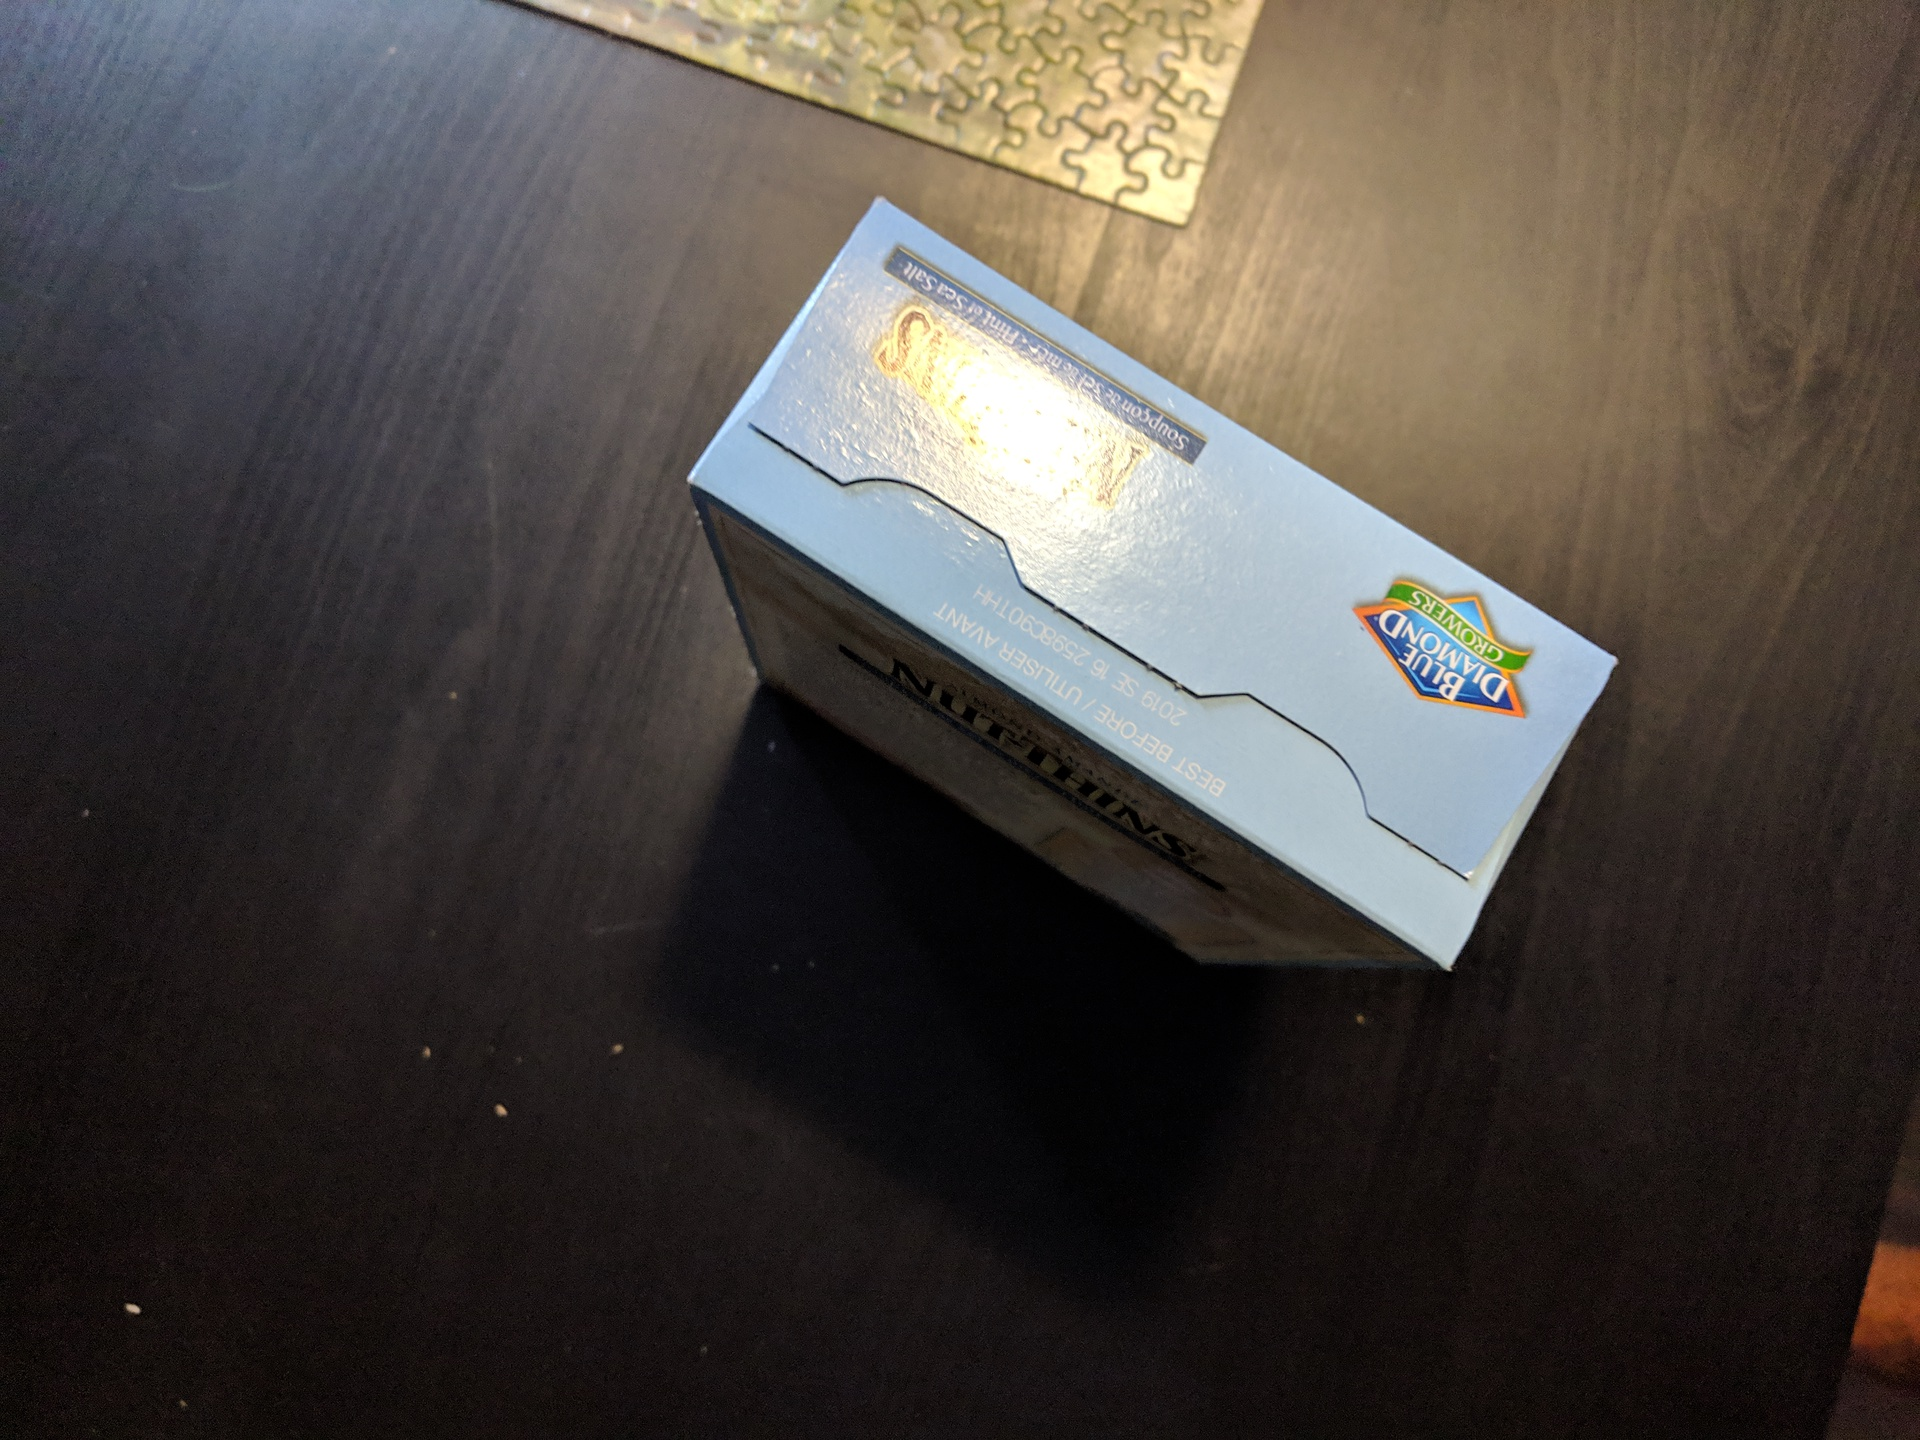blue_diamond_nut_thins_almond_seasalt: (771, 269, 1554, 930)
